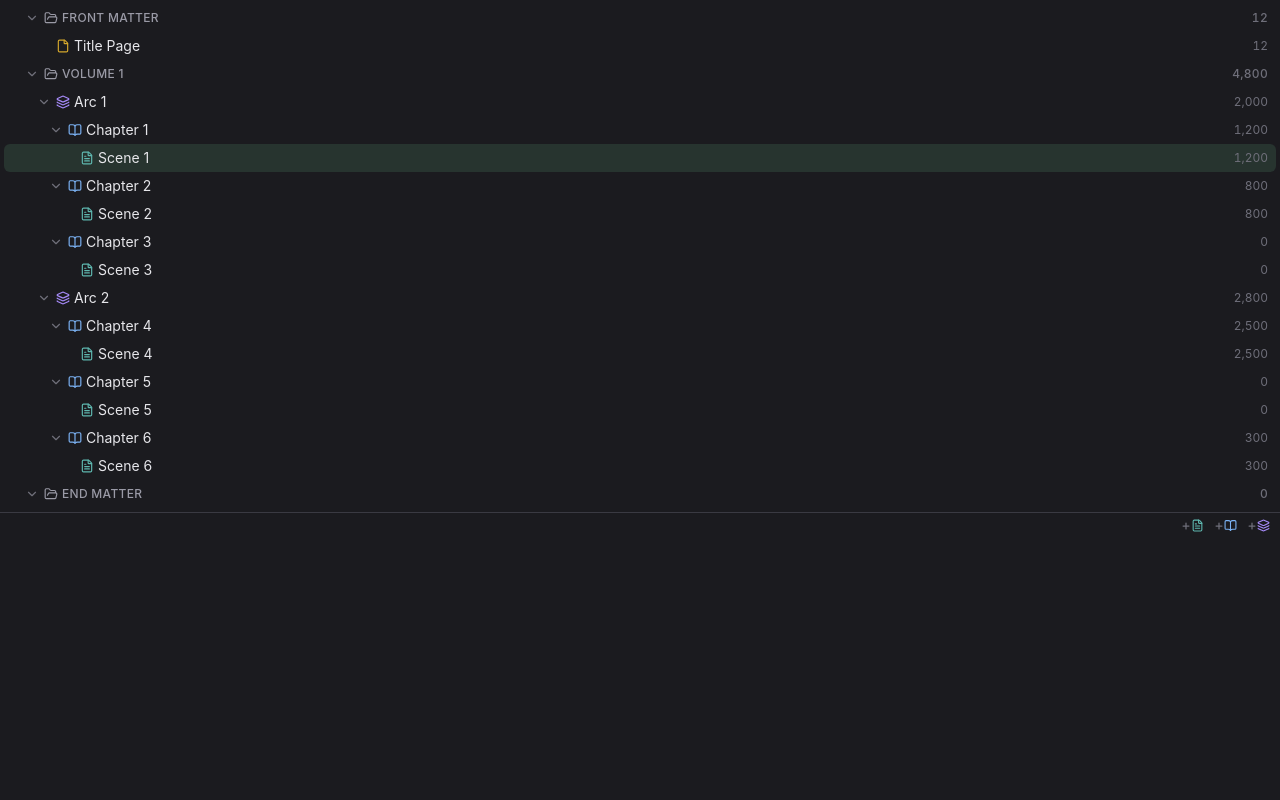
Test: ManuscriptTree › New scene from the bar inserts after the selected scene and opens inline rename
Click the button named "New scene": (1192, 526) [1177,517,1208,534]
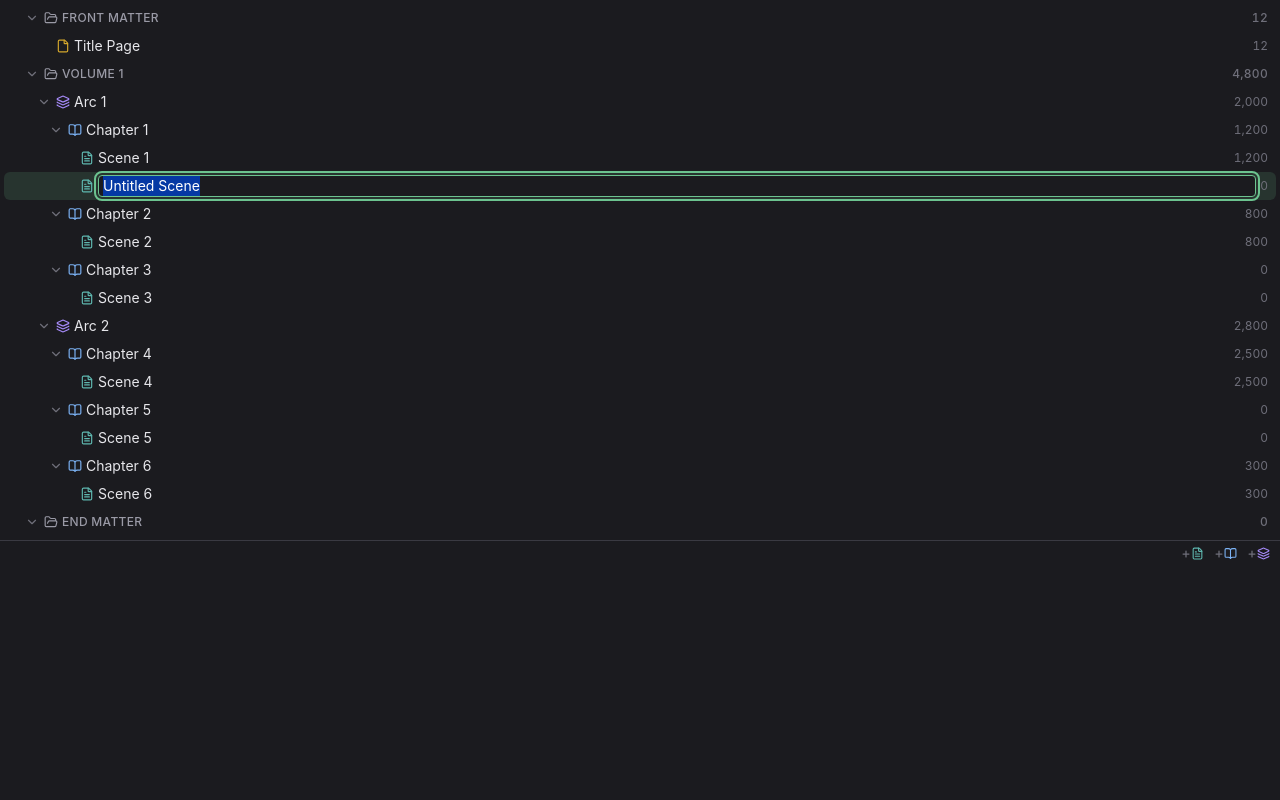
Now the field named "Rename" holds "Untitled Scene", box [98,175,1256,197]
